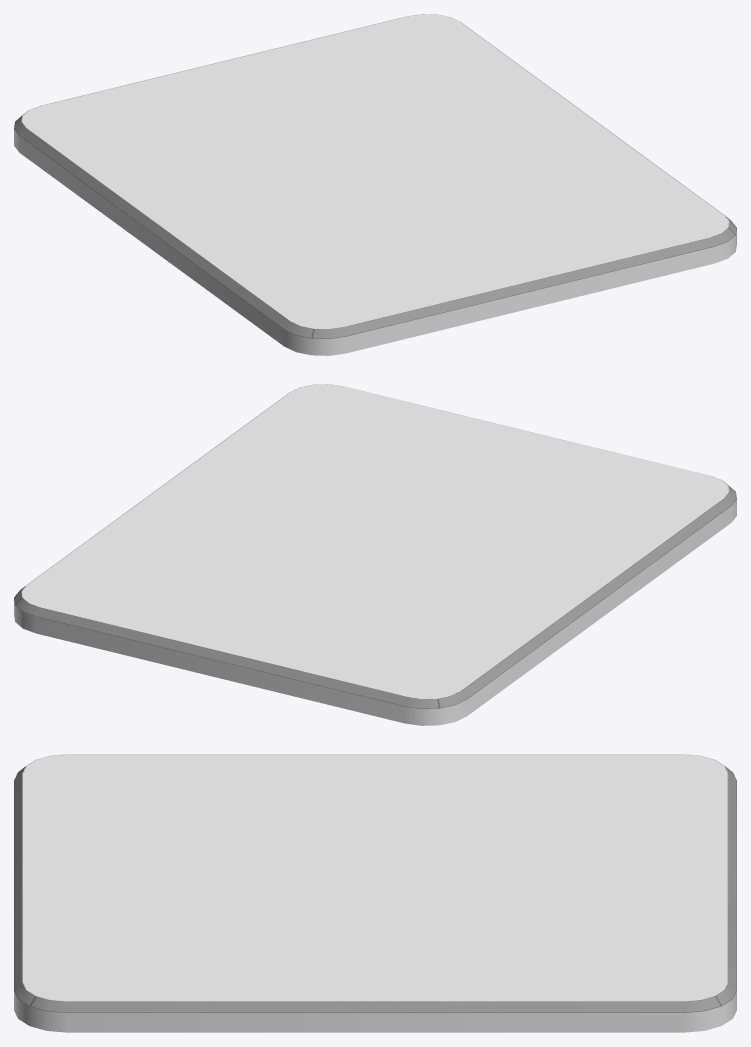
Rendered from Podium_02.FBX.
3 views of the same model, one above another, from view 1: azimuth 30°, elevation 25°; view 2: azimuth 150°, elevation 25°; view 3: azimuth 270°, elevation 25° (orthographic). The views are drawn at different scales.
Parts seen in each view (by area): view 1: Podium_02; view 2: Podium_02; view 3: Podium_02.
Boxes of the visible parts, box(x1,y1,x2,y2) form: Podium_02: box(14, 14, 736, 355); Podium_02: box(14, 384, 736, 725); Podium_02: box(14, 754, 736, 1032).
Size of the model in its own units: 5 by 0.25 by 6.
